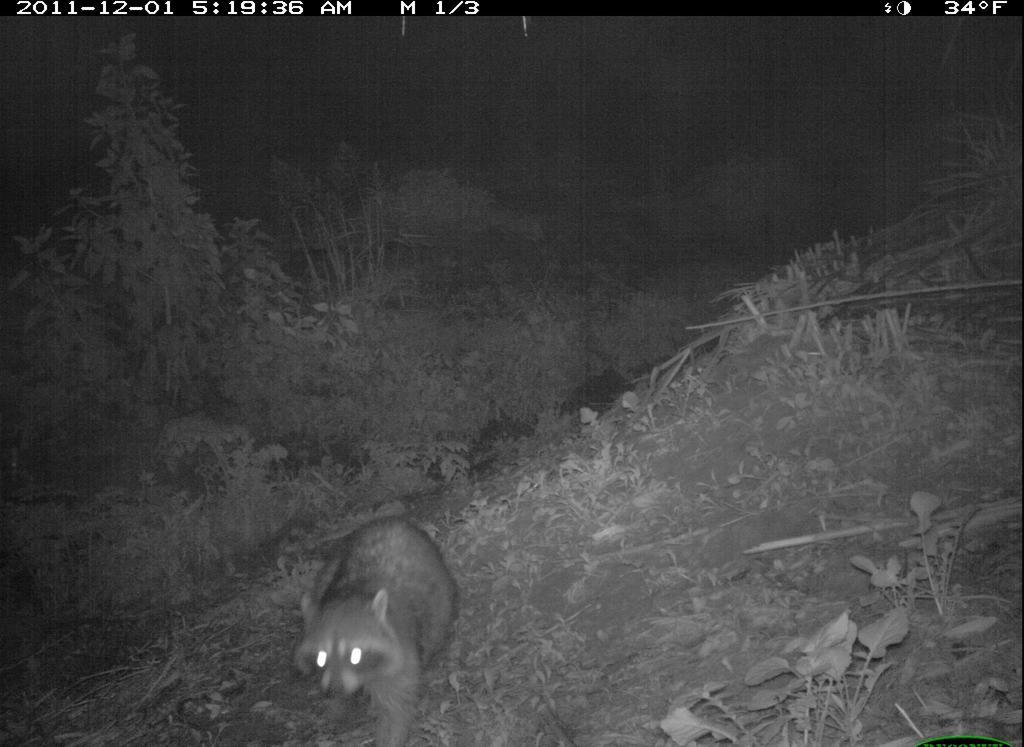raccoon: (282, 505, 474, 747)
